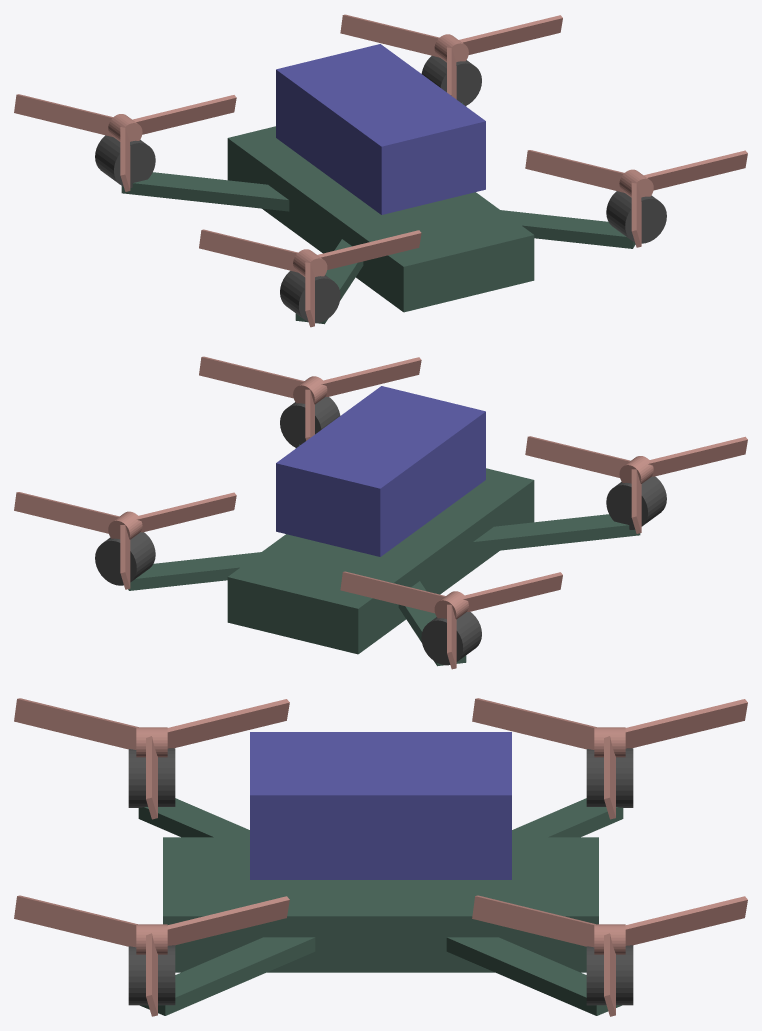
File: Tiny Hawk.glb
The picture shows the model from 3 angles, top to bottom: view 1: azimuth 30°, elevation 25°; view 2: azimuth 150°, elevation 25°; view 3: azimuth 270°, elevation 25°; orthographic projection. The views are drawn at different scales.
Parts seen in each view (by area): view 1: battery, frame_body, prop_0, prop_3, prop_2, prop_1, arm_3, arm_0, motor_0, motor_2, motor_3, motor_1 (+1 smaller); view 2: battery, frame_body, prop_1, prop_2, prop_3, prop_0, arm_2, arm_1, motor_3, motor_1, motor_2, motor_0 (+1 smaller); view 3: battery, frame_body, prop_2, prop_3, prop_1, prop_0, arm_1, arm_0, arm_2, arm_3, motor_1, motor_0 (+2 smaller).
Part boxes in pixels (left/top/right/bottom): battery: left=276, top=44, right=485, bottom=214; frame_body: left=227, top=126, right=534, bottom=312; prop_0: left=525, top=150, right=747, bottom=247; prop_3: left=14, top=94, right=236, bottom=191; prop_2: left=199, top=229, right=421, bottom=327; prop_1: left=340, top=14, right=562, bottom=99; arm_3: left=121, top=172, right=289, bottom=211; arm_0: left=500, top=210, right=635, bottom=248; motor_0: left=606, top=191, right=666, bottom=243; motor_2: left=280, top=270, right=340, bottom=323; motor_3: left=95, top=135, right=155, bottom=187; motor_1: left=421, top=56, right=481, bottom=105; battery: left=276, top=386, right=485, bottom=556; frame_body: left=227, top=468, right=534, bottom=654; prop_1: left=14, top=492, right=236, bottom=589; prop_2: left=525, top=436, right=747, bottom=533; prop_3: left=340, top=571, right=562, bottom=669; prop_0: left=199, top=356, right=421, bottom=440; arm_2: left=472, top=514, right=640, bottom=553; arm_1: left=128, top=552, right=261, bottom=590; motor_3: left=421, top=612, right=481, bottom=665; motor_1: left=95, top=532, right=155, bottom=585; motor_2: left=606, top=476, right=666, bottom=529; motor_0: left=280, top=397, right=340, bottom=447; battery: left=250, top=732, right=511, bottom=879; frame_body: left=163, top=837, right=598, bottom=972; prop_2: left=14, top=698, right=289, bottom=819; prop_3: left=472, top=698, right=747, bottom=819; prop_1: left=472, top=895, right=747, bottom=1016; prop_0: left=14, top=895, right=289, bottom=1016; arm_1: left=446, top=937, right=621, bottom=1015; arm_0: left=140, top=937, right=315, bottom=1015; arm_2: left=138, top=798, right=249, bottom=837; arm_3: left=512, top=798, right=623, bottom=837; motor_1: left=586, top=945, right=633, bottom=1005; motor_0: left=128, top=945, right=175, bottom=1005.
Bounding box in the file's own units: 0.2265 × 0.06 × 0.2355.
